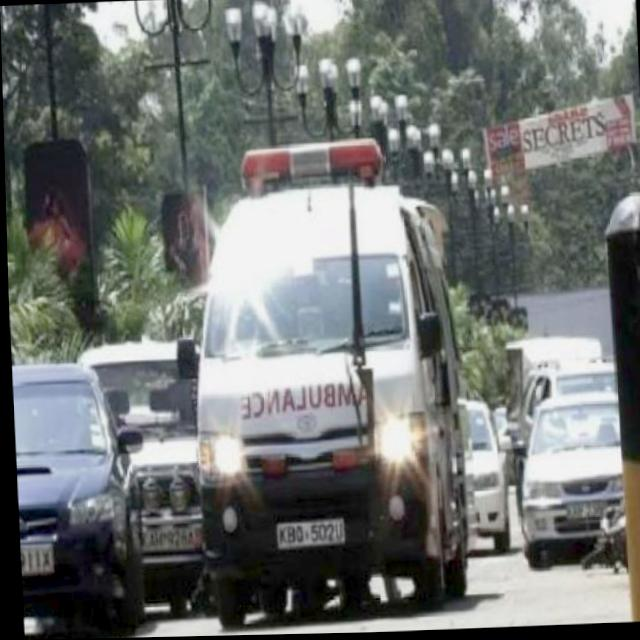emergency: (166, 135, 476, 630)
